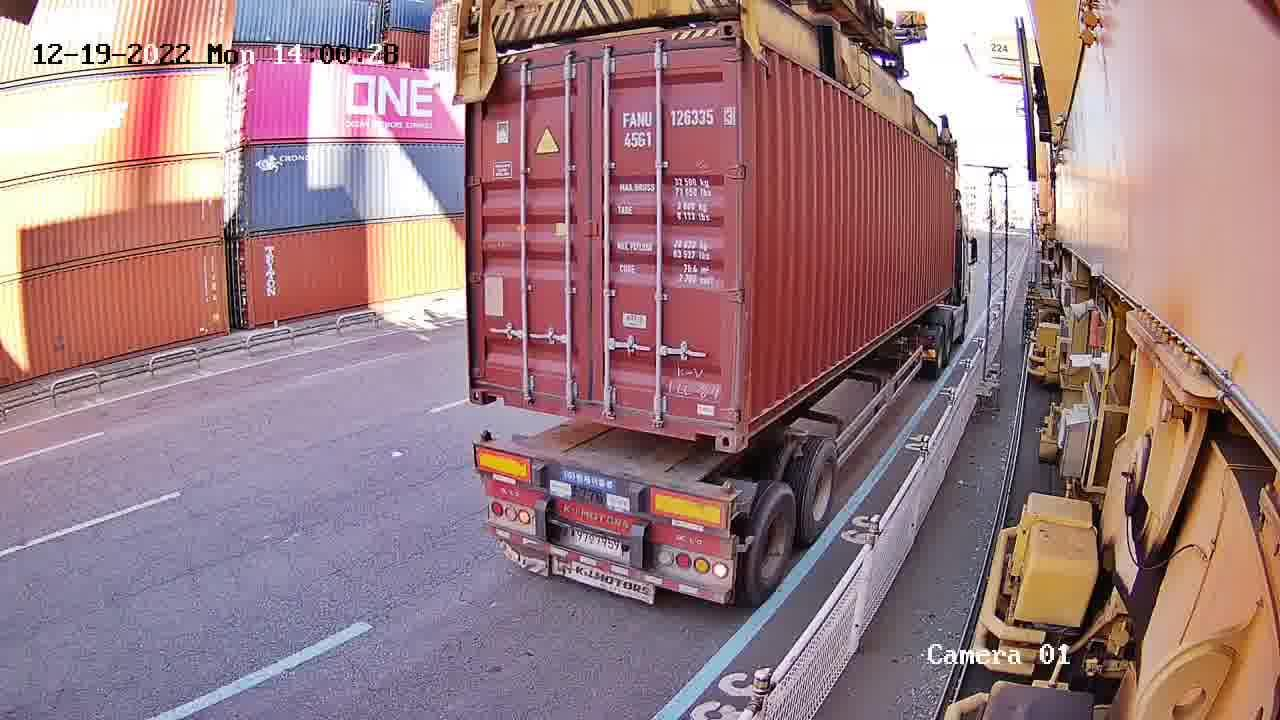Chassis: (475, 439, 744, 532)
Cone: (718, 474, 740, 520), (475, 430, 489, 451)
Hole_L: (735, 383, 768, 452), (470, 361, 514, 408)
Hole_R: (686, 395, 737, 453)
Tire: (747, 489, 797, 595), (799, 438, 839, 534)
